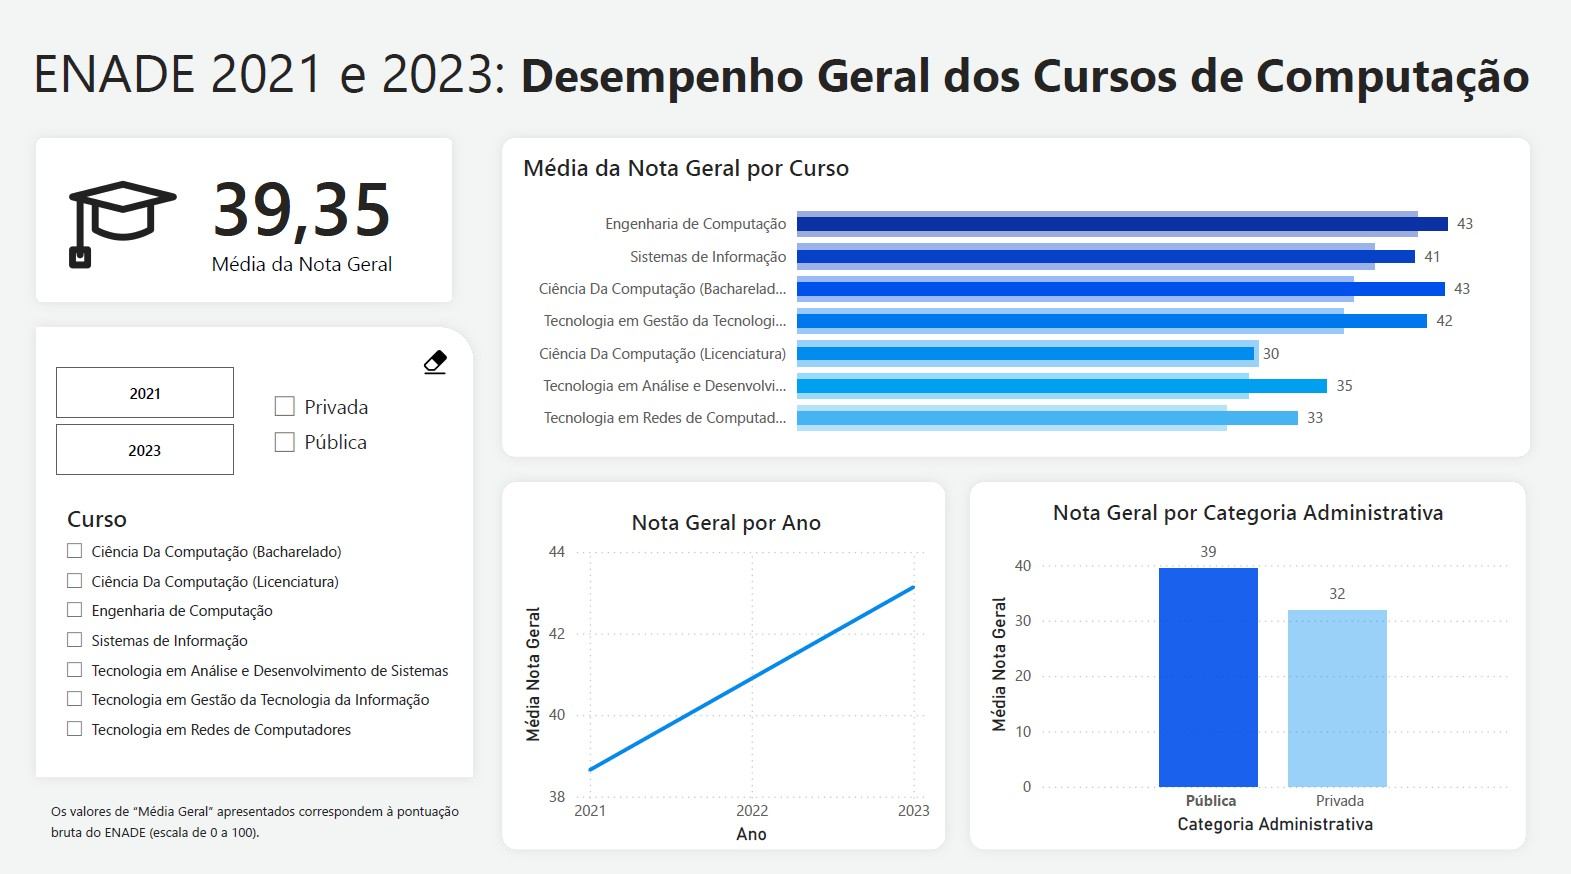

The dashboard page shown, as its layout file describes it:
{"tool":"powerbi","page":{"name":"Page 1","canvas":[1280,720],"ordinal":0},"visuals":[{"type":"shape","box":[22.4,105.8,356.1,153.4],"z":0},{"type":"shape","box":[399,383.9,378.6,318.3],"z":1000},{"type":"shape","box":[777.6,383.9,470.8,318.3],"z":2000},{"type":"shape","box":[399.2,105.8,852.1,278.1],"z":3000},{"type":"shape","box":[21.5,259.2,374,384.8],"z":4000},{"type":"textbox","box":[0,27.8,1280,78],"z":5000},{"type":"card","fields":{"Values":["Avg(df_final1.NT_GER)"]},"box":[124.7,115.7,244,126.5],"z":6000},{"type":"columnChart","title":"Nota Geral por Categoria Administrativa","fields":{"Category":["df_final1.CO_CATEGAD"],"Y":["Avg(df_final1.NT_GER)"]},"box":[798,406.1,430,277.5],"z":7000},{"type":"lineChart","title":"Nota Geral por Ano","fields":{"Category":["df_final1.NU_ANO"],"Y":["Avg(df_final1.NT_GER)"]},"box":[420.6,413.8,339,277.8],"z":8000},{"type":"slicer","title":"Ano","fields":{"Values":["df_final1.NU_ANO"]},"box":[22.2,294.4,194.2,102],"z":9000},{"type":"barChart","title":"Média da Nota Geral por Curso","fields":{"Category":["df_final1.CO_GRUPO"],"Y":["Avg(df_final1.NT_GER)"]},"box":[420.7,127.4,858.4,241.3],"z":10000},{"type":"slicer","fields":{"Values":["df_final1.CO_GRUPO"]},"box":[44.3,406.1,339.6,207.5],"z":11000},{"type":"slicer","fields":{"Values":["df_final1.CO_CATEGAD"]},"box":[211.9,313,137.4,74.5],"z":12000},{"type":"image","box":[332.8,280.8,43.1,32.3],"z":13000},{"type":"textbox","box":[38.6,645.8,346.2,58.3],"z":13001},{"type":"image","box":[52.9,132.8,99.6,100.5],"z":13002}]}

Visuals, with their boxes in screenshot pixels (x1, y1, x2, y2), scaled from the page's 1280x720 canvas onto the 1571x874 screenshot:
shape: (x1=27, y1=128, x2=465, y2=315)
shape: (x1=490, y1=466, x2=954, y2=852)
shape: (x1=954, y1=466, x2=1532, y2=852)
shape: (x1=490, y1=128, x2=1536, y2=466)
shape: (x1=26, y1=315, x2=485, y2=782)
textbox: (x1=0, y1=34, x2=1570, y2=128)
card - Avg(df_final1.NT_GER): (x1=153, y1=140, x2=453, y2=294)
"Nota Geral por Categoria Administrativa" columnChart: (x1=979, y1=493, x2=1507, y2=830)
"Nota Geral por Ano" lineChart: (x1=516, y1=502, x2=932, y2=840)
"Ano" slicer: (x1=27, y1=357, x2=266, y2=481)
"Média da Nota Geral por Curso" barChart: (x1=516, y1=155, x2=1570, y2=448)
slicer - df_final1.CO_GRUPO: (x1=54, y1=493, x2=471, y2=745)
slicer - df_final1.CO_CATEGAD: (x1=260, y1=380, x2=429, y2=470)
image: (x1=408, y1=341, x2=461, y2=380)
textbox: (x1=47, y1=784, x2=472, y2=855)
image: (x1=65, y1=161, x2=187, y2=283)
